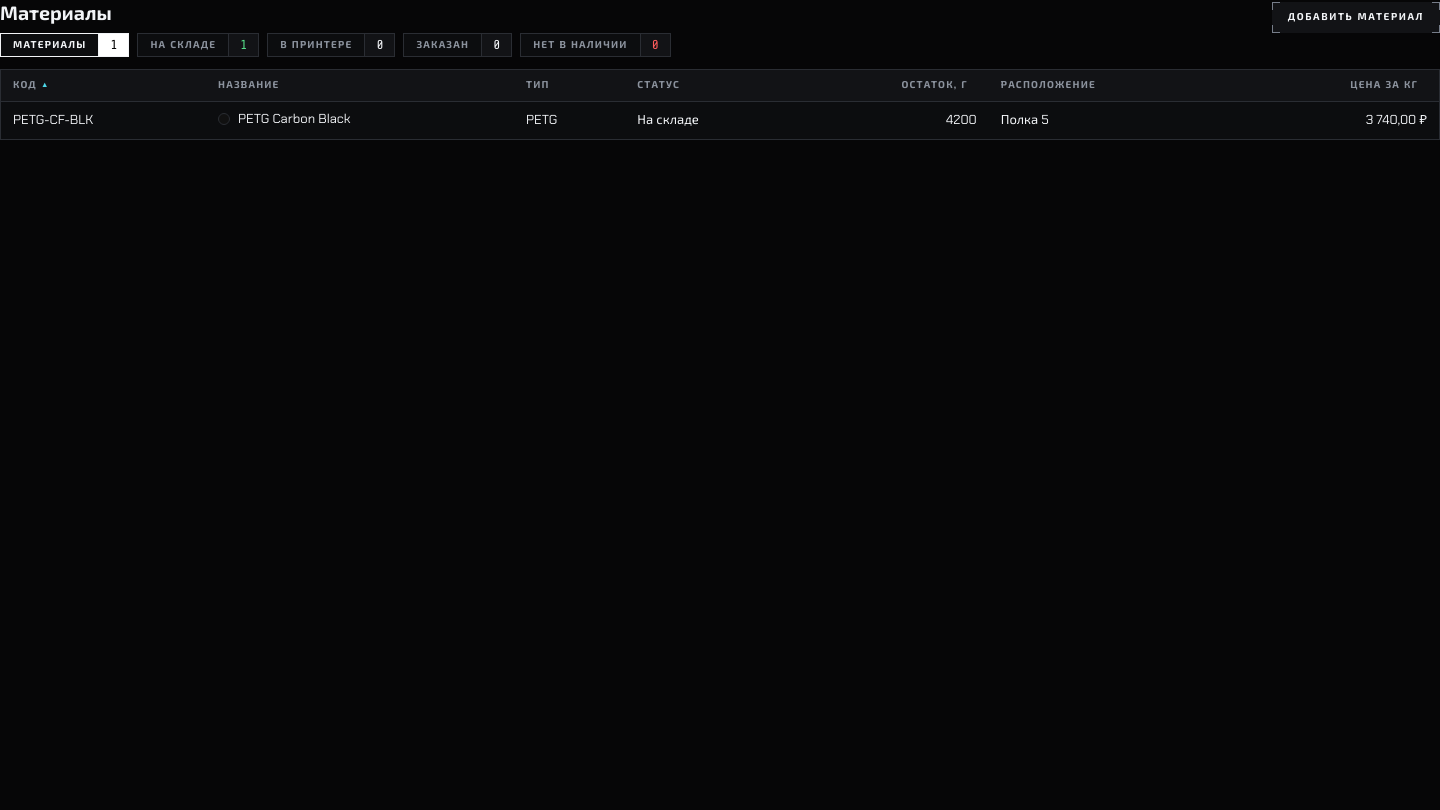
Test: the materials table › opens a row into the detail route, not into the row it already has
Expected: the text "PETG Carbon Black" is shown, [238,110,351,126]
Click the text "PETG Carbon Black".
click(53, 119)  # box [1,102,1439,139]
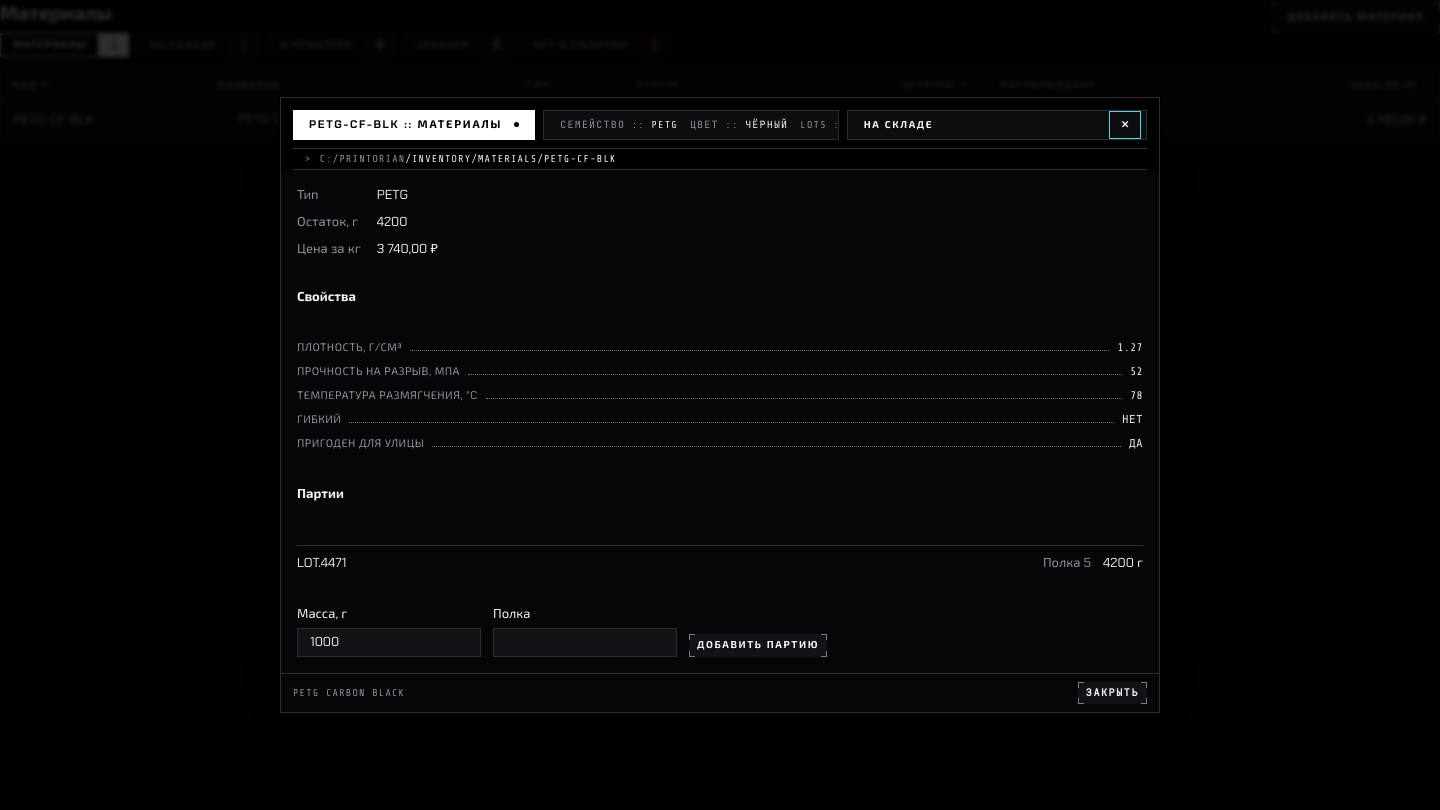
Now the text "1.27" is shown, box [1118,340,1143,356]
